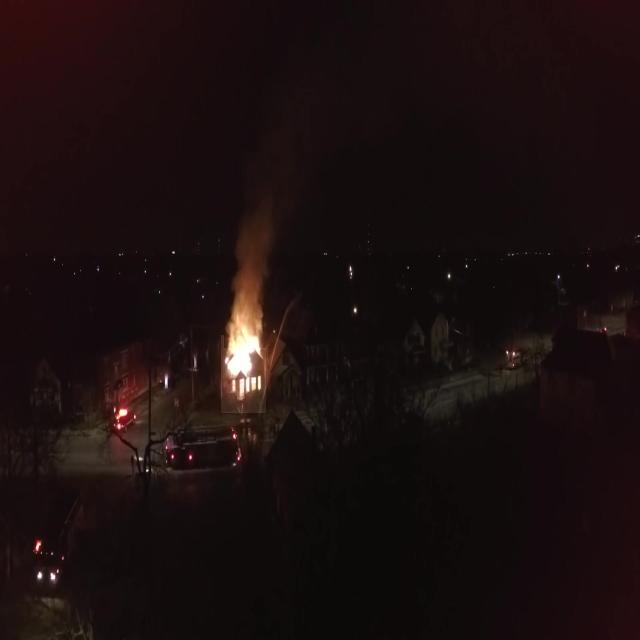Fire: (221, 336, 266, 414)
Smoke: (224, 208, 277, 348)
